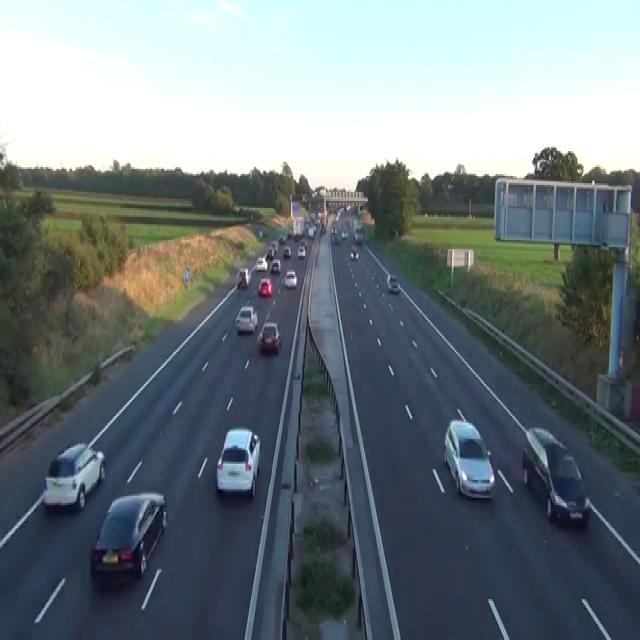Car: (90, 491, 167, 585), (522, 427, 590, 526), (443, 410, 495, 500), (42, 441, 105, 510), (215, 427, 261, 498), (257, 322, 281, 352), (235, 304, 258, 334), (257, 277, 272, 297), (237, 267, 251, 288), (386, 272, 399, 293), (284, 270, 297, 288), (270, 258, 281, 274), (255, 256, 267, 270), (330, 228, 340, 244), (350, 246, 358, 262), (265, 246, 274, 260), (354, 230, 363, 243), (297, 244, 305, 258), (307, 224, 315, 238), (283, 245, 291, 258), (353, 219, 363, 229), (320, 222, 327, 235), (300, 192, 307, 204), (271, 240, 278, 251), (299, 238, 307, 247), (341, 228, 348, 238), (278, 234, 285, 243), (314, 218, 320, 228), (446, 182, 453, 190), (317, 212, 323, 220), (287, 230, 292, 238), (258, 228, 262, 236), (346, 202, 350, 210)
Truck: (292, 215, 304, 240)
